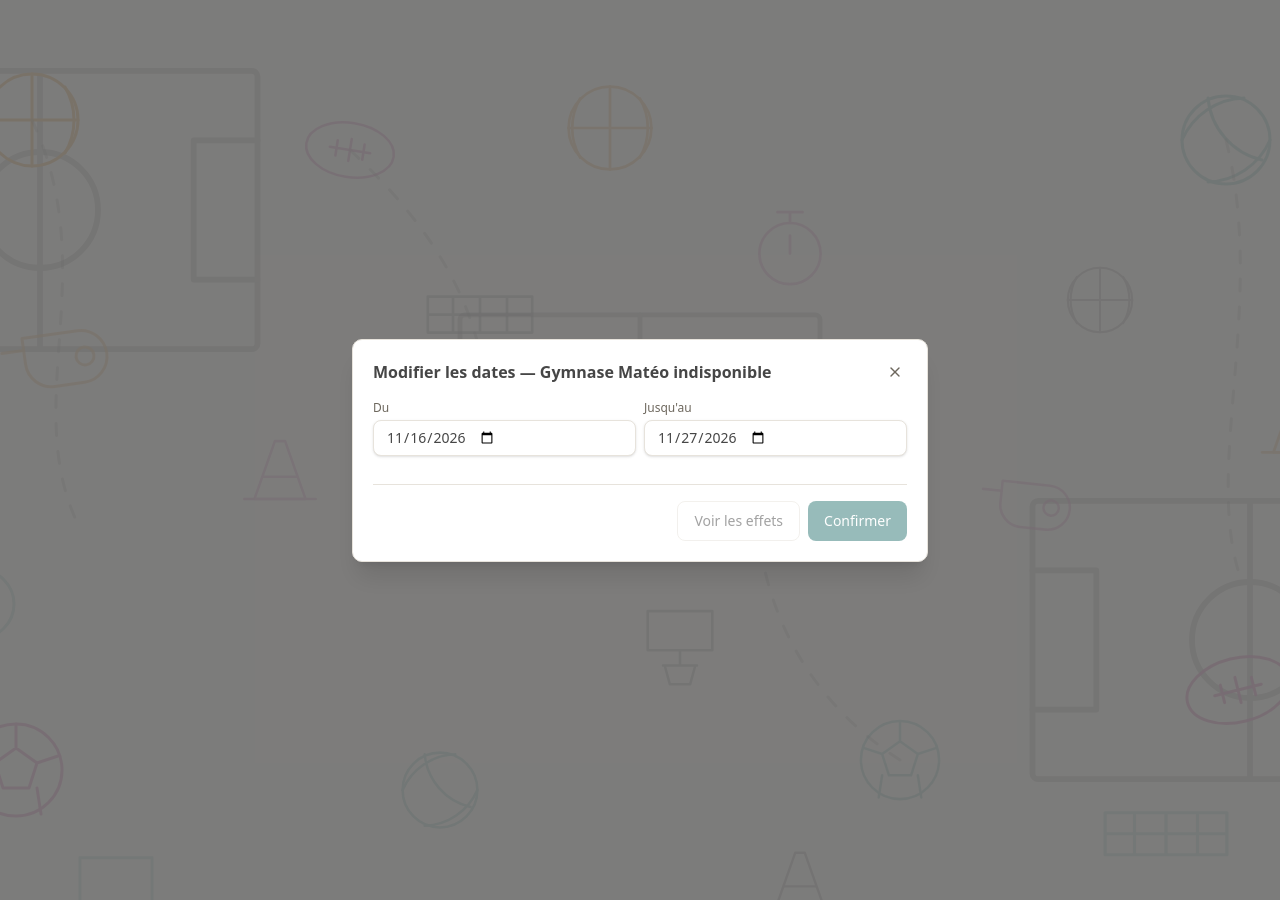
Test case: ClosureWindowDialog — annonce avant d'appliquer › affiche un bandeau quand des plans FUTURS seraient balayés (futurePlansWarning servi)
Type "2026-12-18" into the date field labelled "Jusqu'au" at (776, 438), box 644,420 -> 907,456
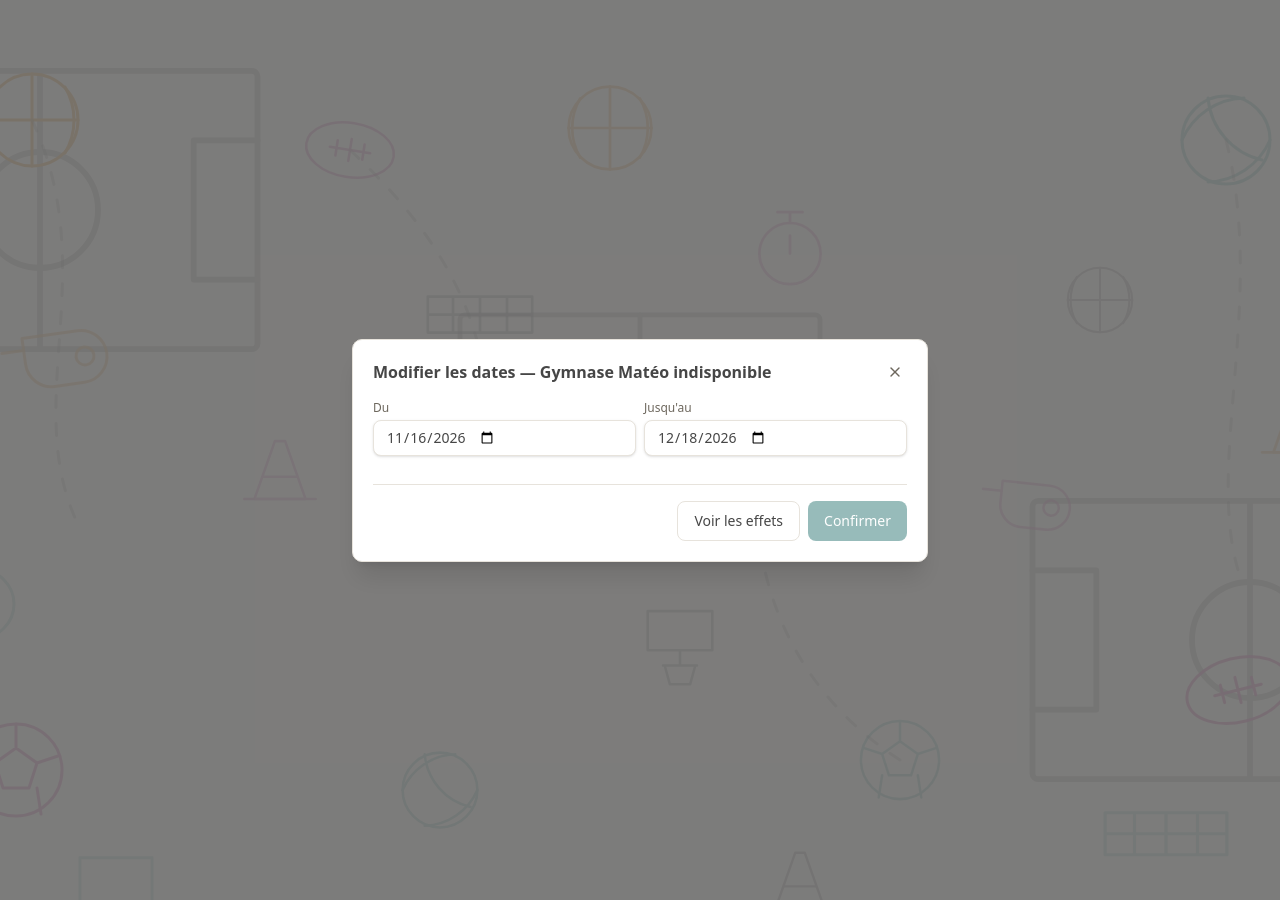
Click the button "Voir les effets" at (739, 520), box 677,500 -> 800,540
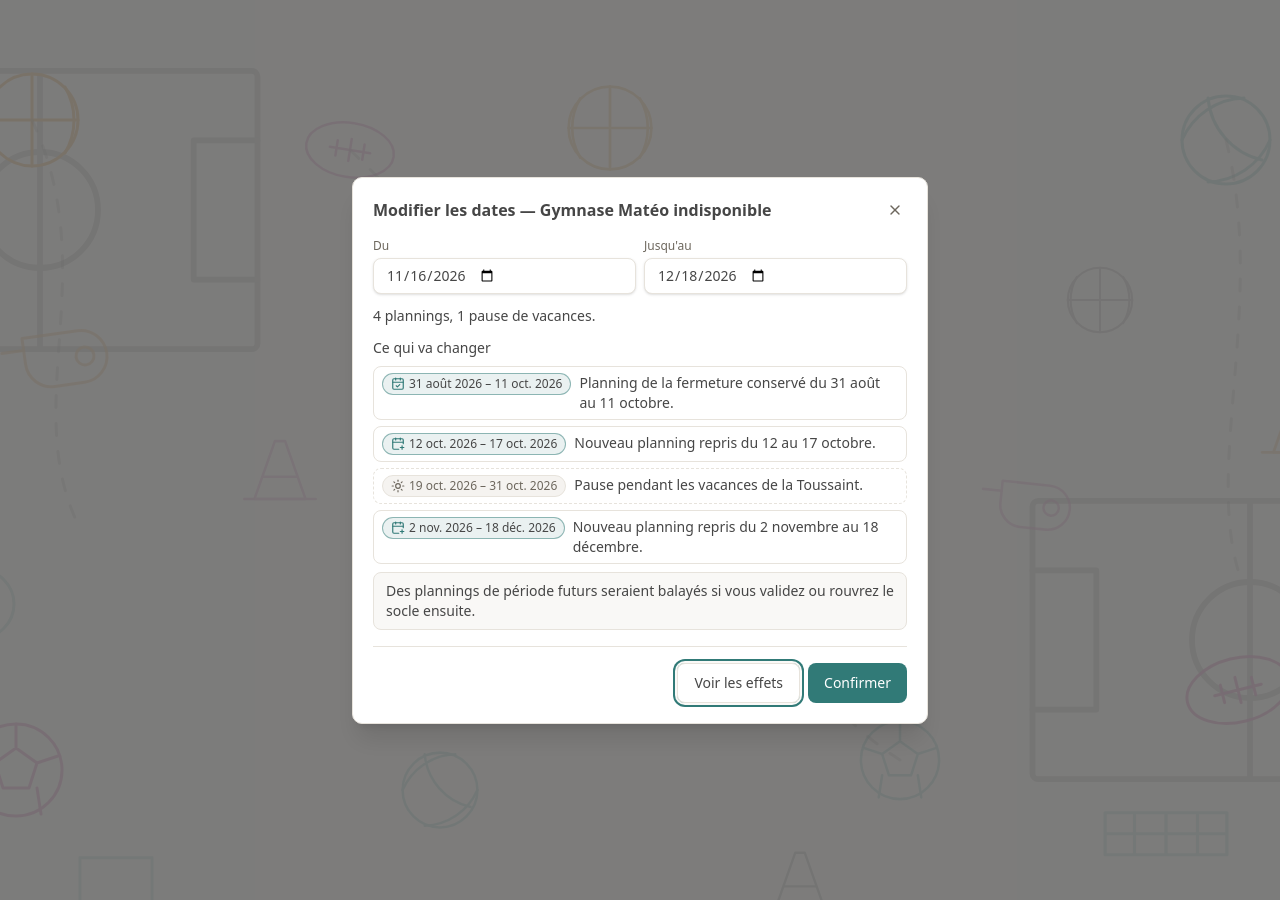
Now the text "Planning de la fermeture conservé du 31 août au 11 octobre." is shown, box 579,372 -> 898,412
